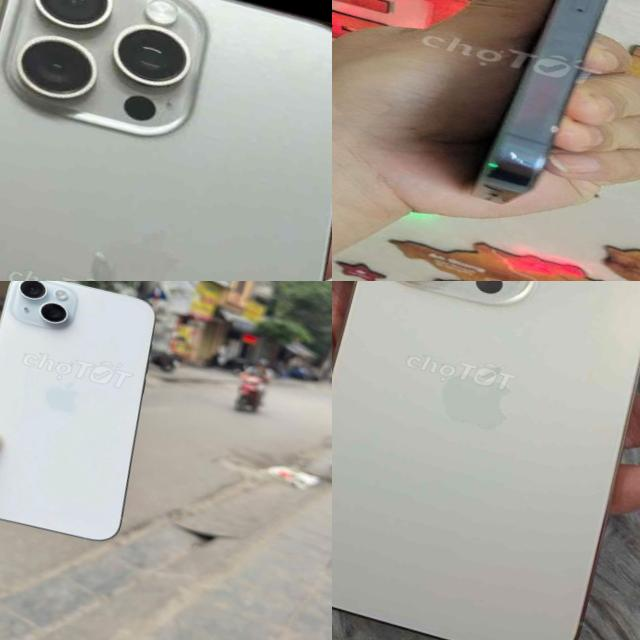gen_12_13: (467, 0, 640, 230)
gen_14: (332, 281, 640, 640)
gen_15: (0, 0, 332, 281), (0, 281, 188, 571)
